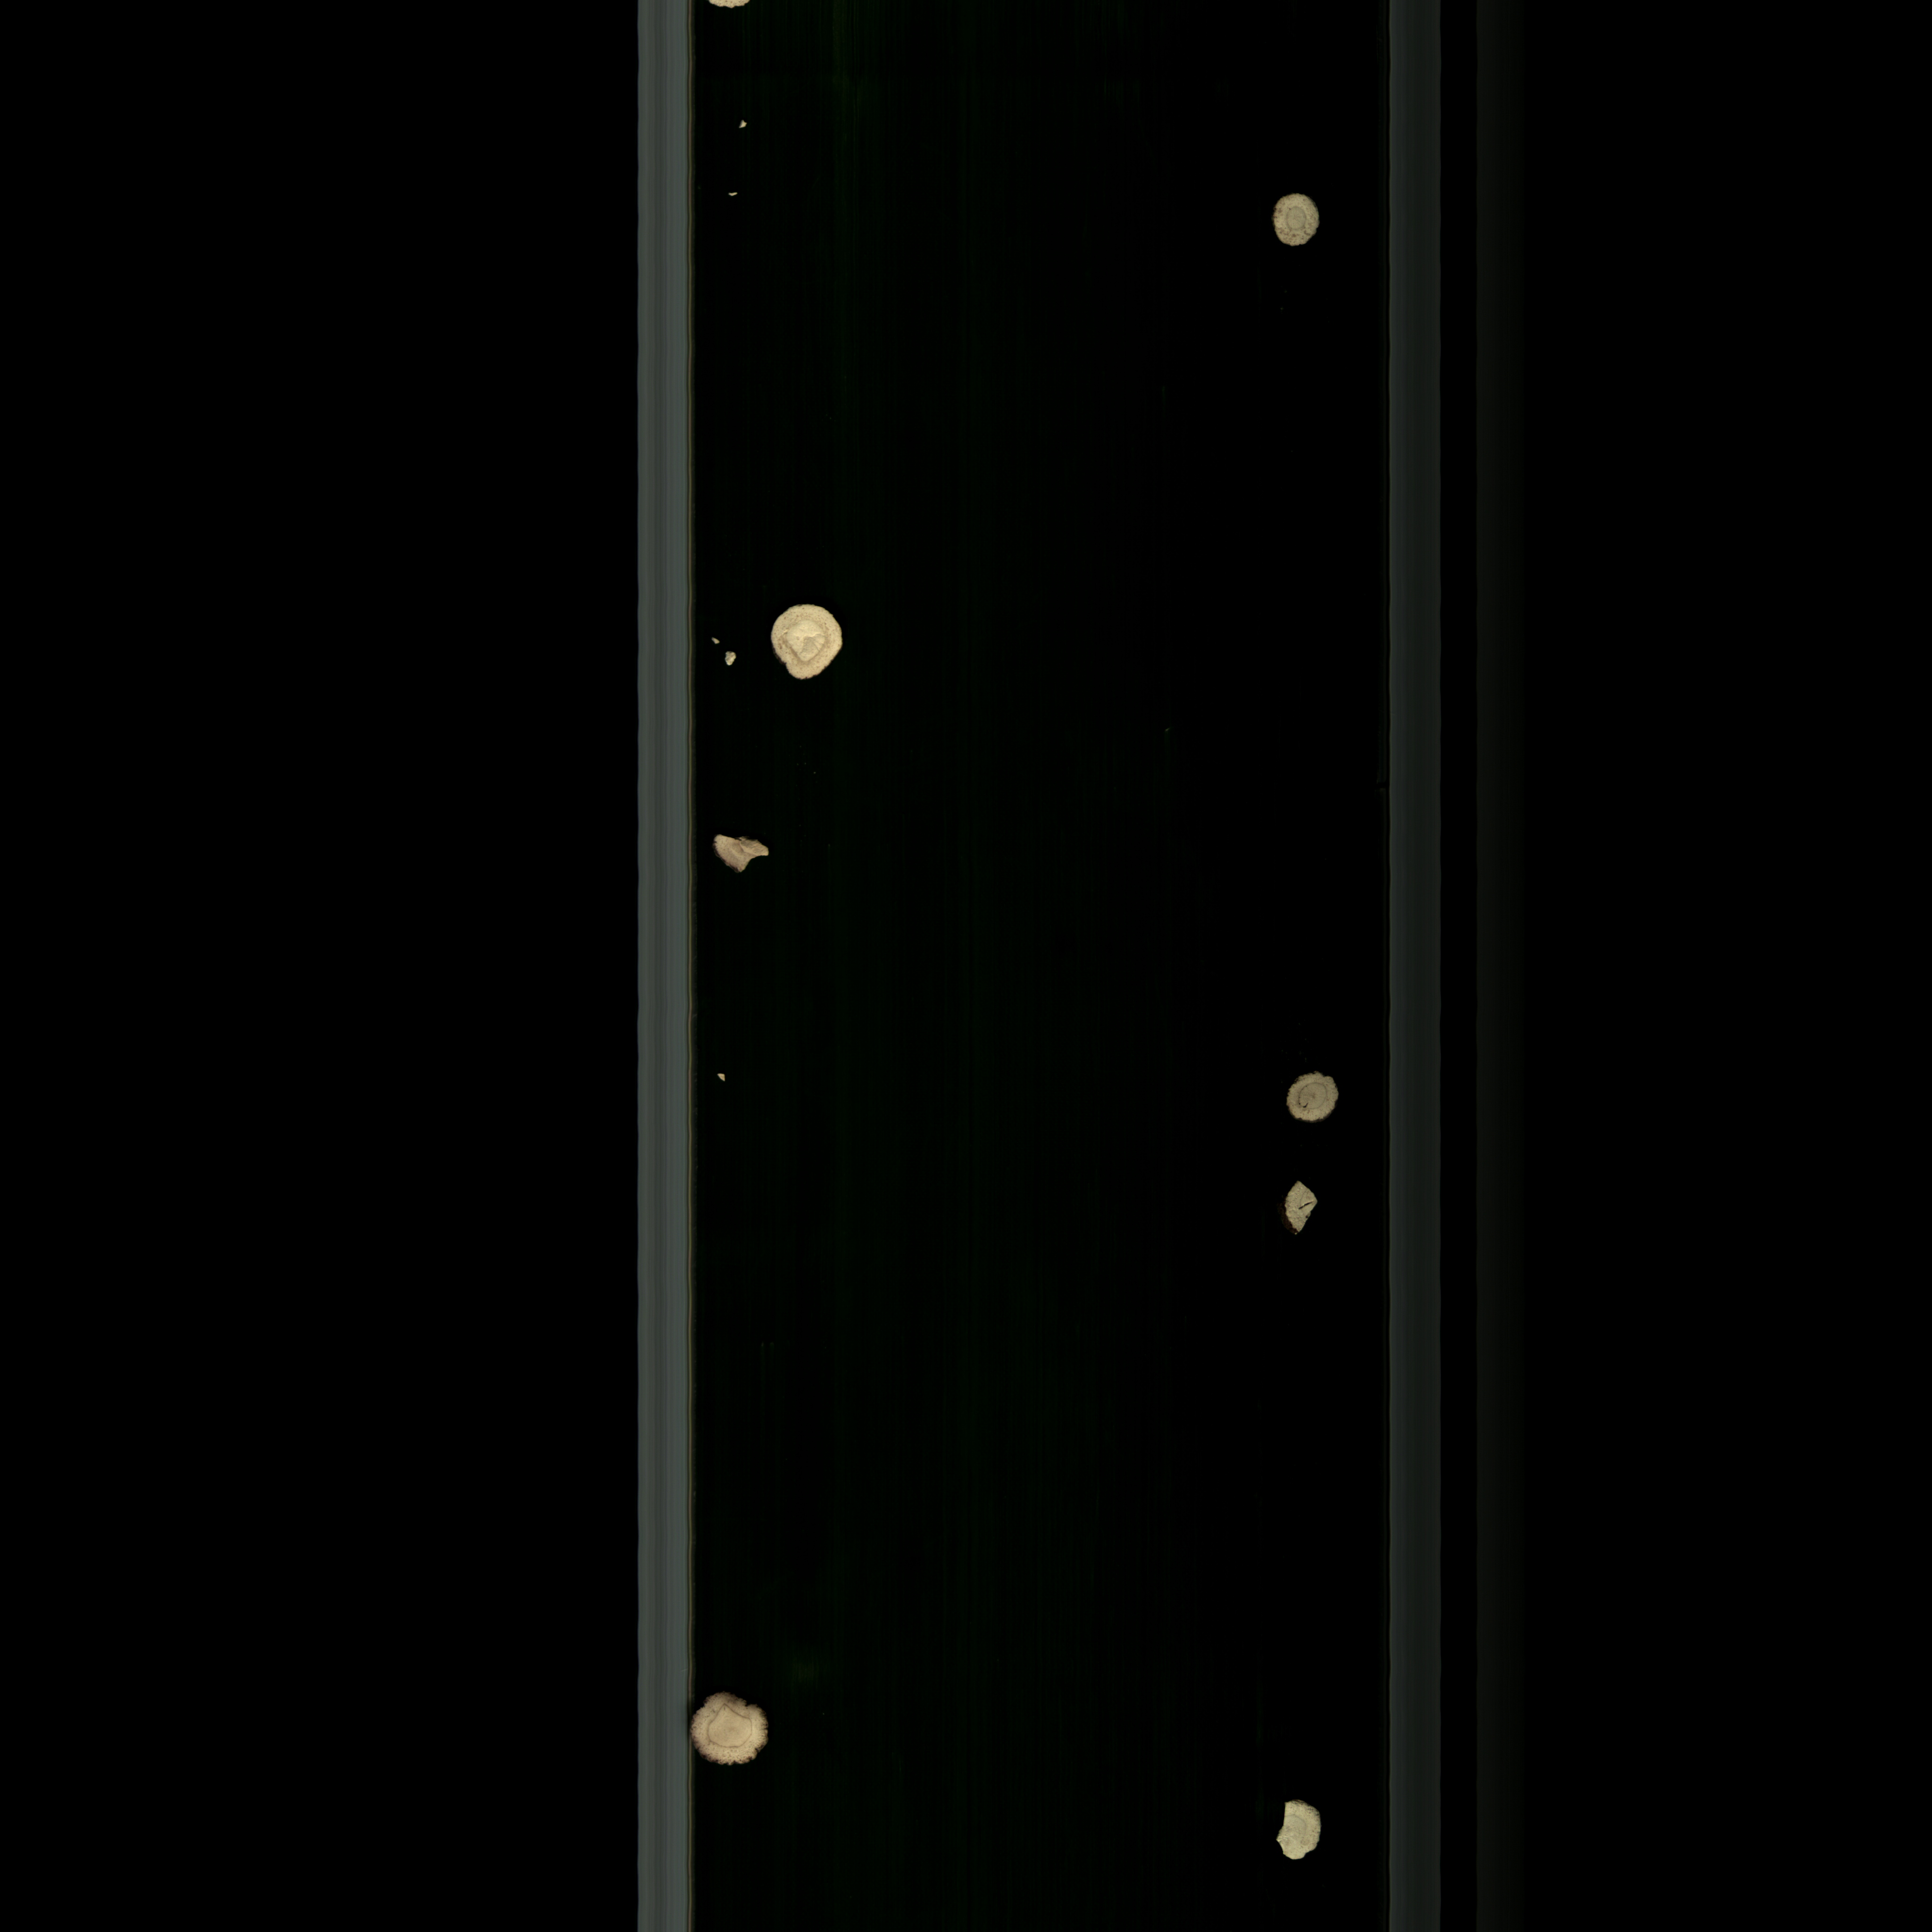debris: (1254, 1792, 1334, 1874), (709, 824, 786, 878), (1281, 1178, 1327, 1246)
dreg: (704, 633, 740, 672), (709, 1067, 745, 1092), (725, 182, 752, 214), (732, 113, 755, 136)
hole: (1279, 1065, 1343, 1129)
